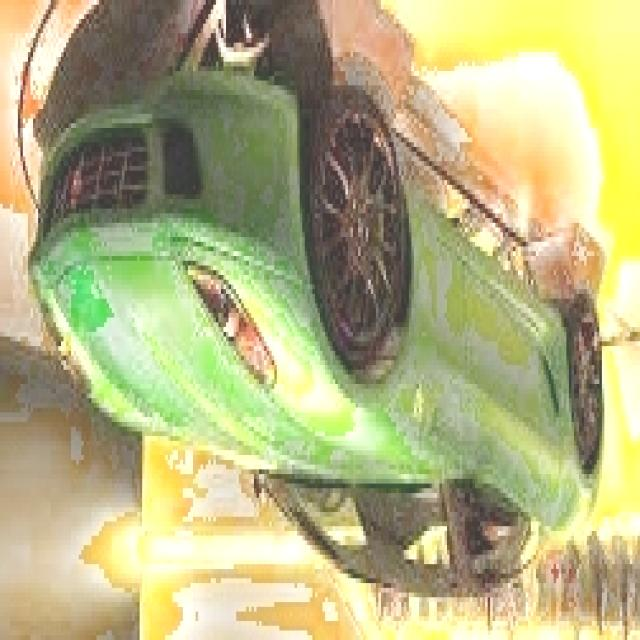green: (14, 54, 613, 614)
